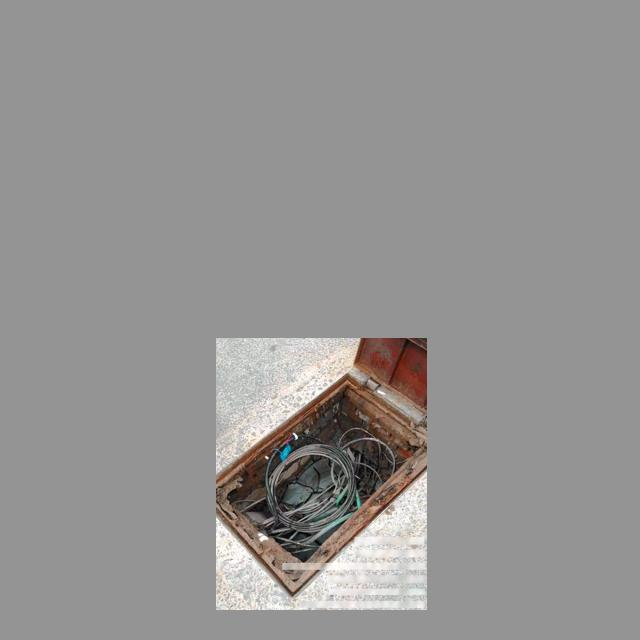uncovered: (215, 339, 427, 595)
